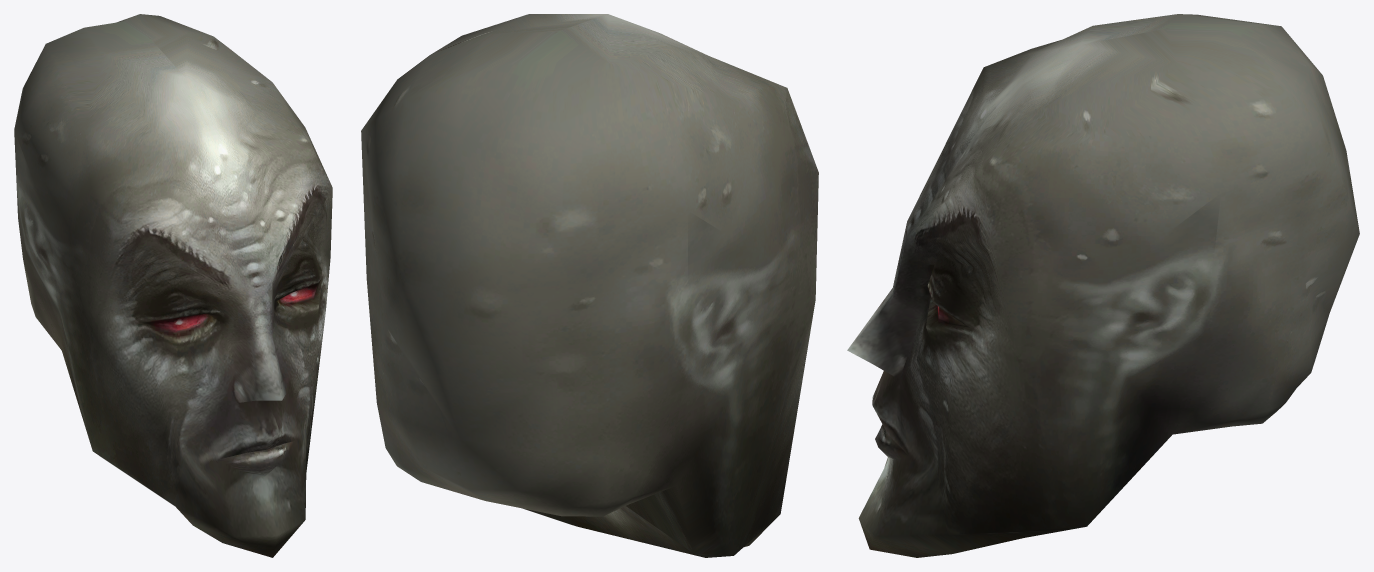
File: b_n_dark elf_m_head_01.glb
3 views of the same model, side by side, from view 1: azimuth 30°, elevation 25°; view 2: azimuth 150°, elevation 25°; view 3: azimuth 270°, elevation 25° (orthographic). The views are drawn at different scales.
Visible parts, largest first — view 1: Tri B_N_Dark Elf_M_Head_01; view 2: Tri B_N_Dark Elf_M_Head_01; view 3: Tri B_N_Dark Elf_M_Head_01.
Boxes of the visible parts, box(x1,y1,x2,y2) form: Tri B_N_Dark Elf_M_Head_01: box(14, 14, 332, 557); Tri B_N_Dark Elf_M_Head_01: box(361, 14, 818, 557); Tri B_N_Dark Elf_M_Head_01: box(847, 14, 1359, 557).
Bounding box in the file's own units: 0.0946 × 0.1608 × 0.1435.
Materials: 1 (1 with a texture image).
